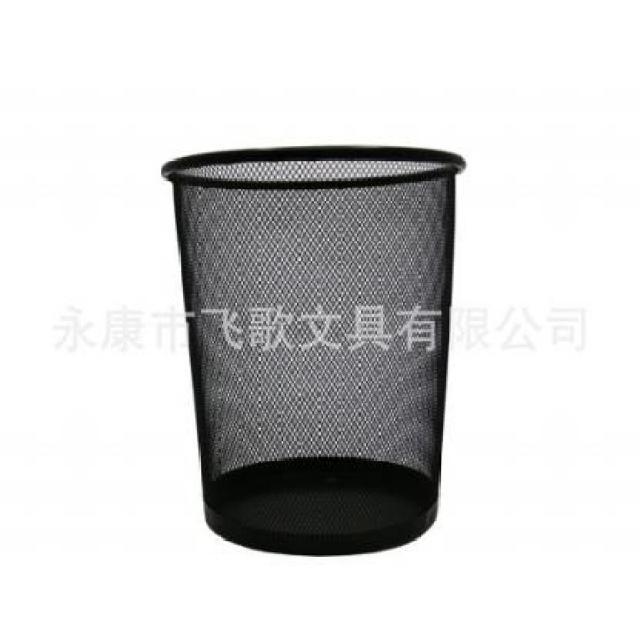dustbin: (157, 143, 469, 561)
